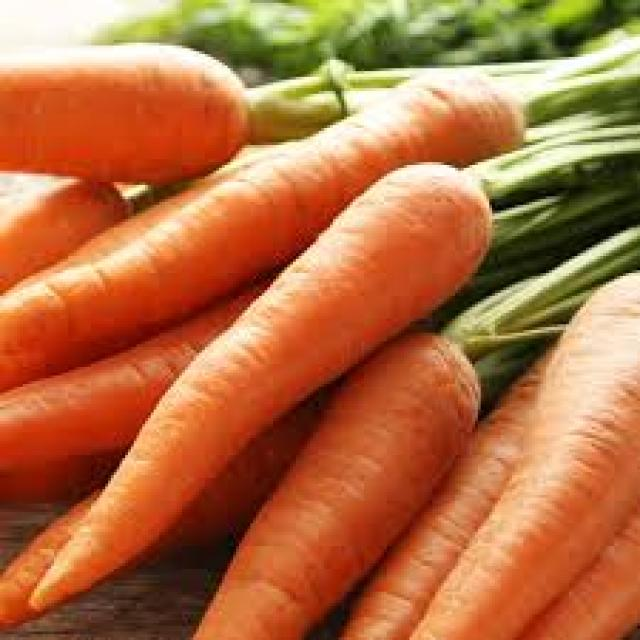organic waste: (29, 159, 486, 609), (0, 68, 523, 381), (185, 327, 478, 637), (398, 265, 637, 637), (0, 373, 336, 623), (336, 341, 552, 637), (0, 264, 284, 466), (350, 23, 637, 202), (91, 0, 637, 65), (0, 37, 247, 170), (478, 113, 637, 264), (512, 492, 637, 637), (0, 168, 131, 287), (452, 279, 540, 387), (242, 51, 344, 142), (0, 446, 125, 501)
